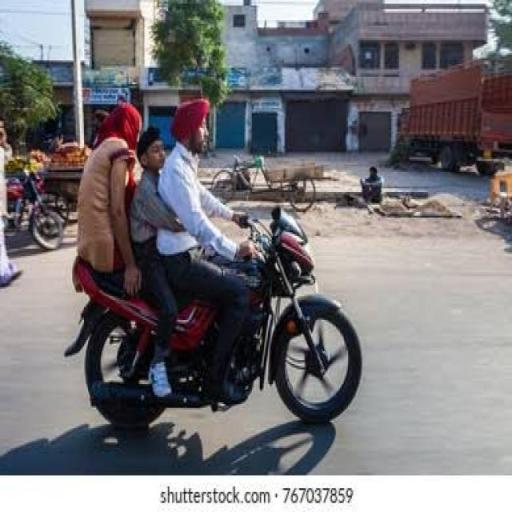tripple riding: (84, 93, 325, 369)
